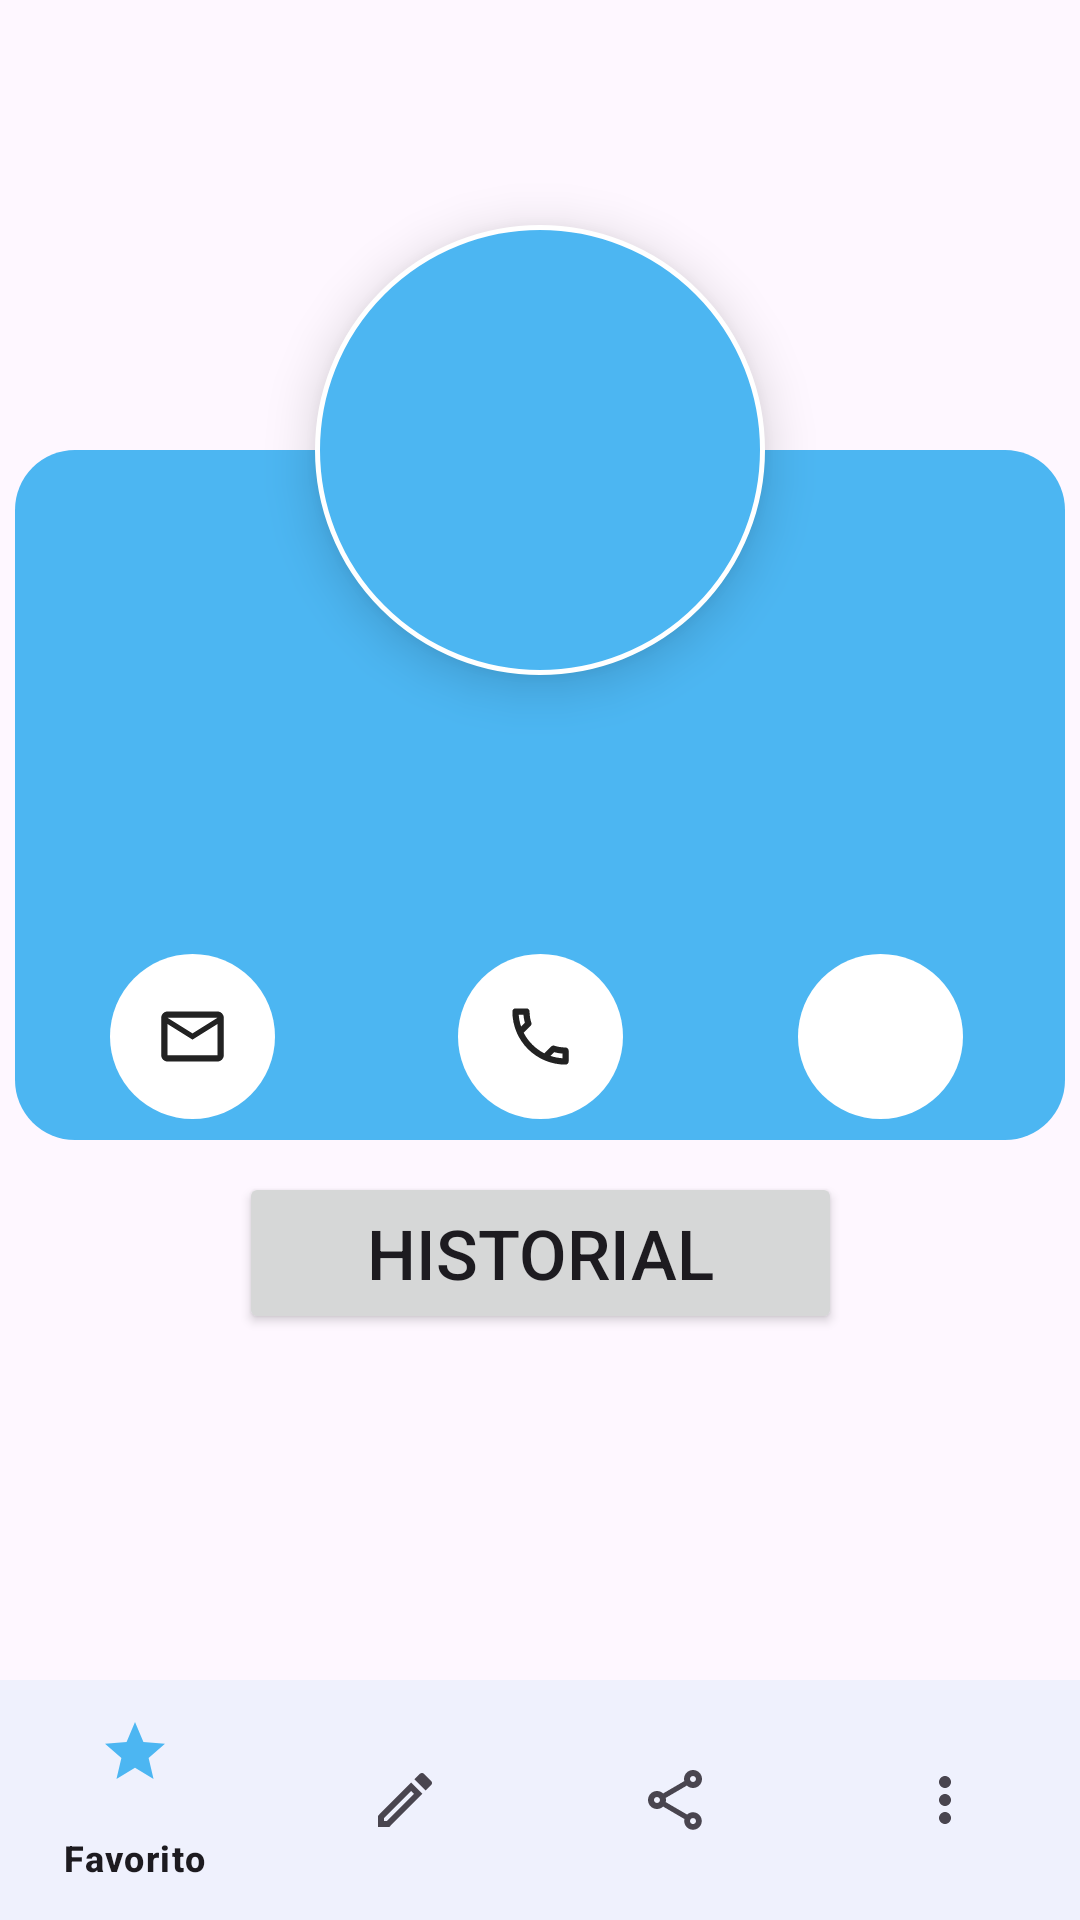

Point at icon controls on the screen. Image size 1080 x 1920, points as (x=x, y=y).
email: (x=192, y=1036)
phone: (x=540, y=1036)
